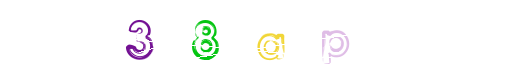3: (100, 0, 180, 80)
8: (166, 0, 246, 80)
A: (216, 0, 296, 80)
P: (217, 0, 297, 80)
